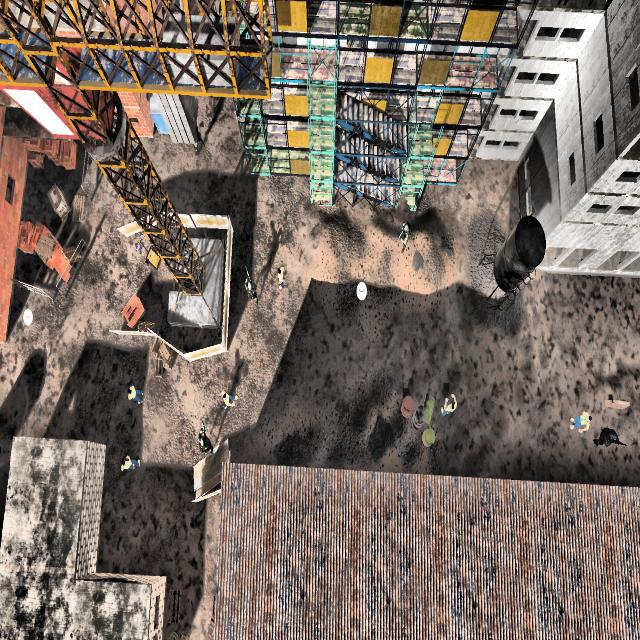bad: (594, 423, 622, 459), (240, 264, 261, 309), (393, 213, 414, 254), (196, 421, 215, 466)
good: (116, 447, 144, 480), (124, 372, 145, 415), (211, 385, 241, 415), (566, 405, 590, 441), (271, 255, 290, 293), (440, 391, 458, 420)
